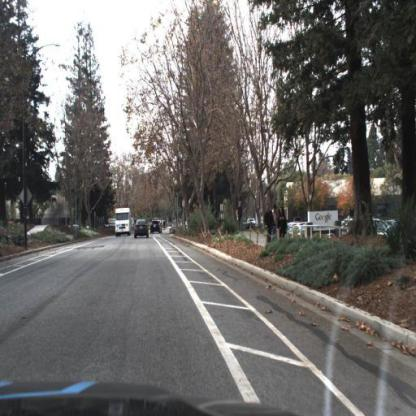car: (345, 216, 389, 242), (134, 219, 150, 240), (151, 218, 163, 234)
pedestrian: (237, 199, 245, 239), (265, 204, 273, 242), (279, 208, 289, 236), (278, 208, 287, 237), (268, 204, 274, 246), (239, 201, 246, 232), (273, 207, 278, 243)
truck: (114, 206, 132, 237), (115, 207, 132, 236)
